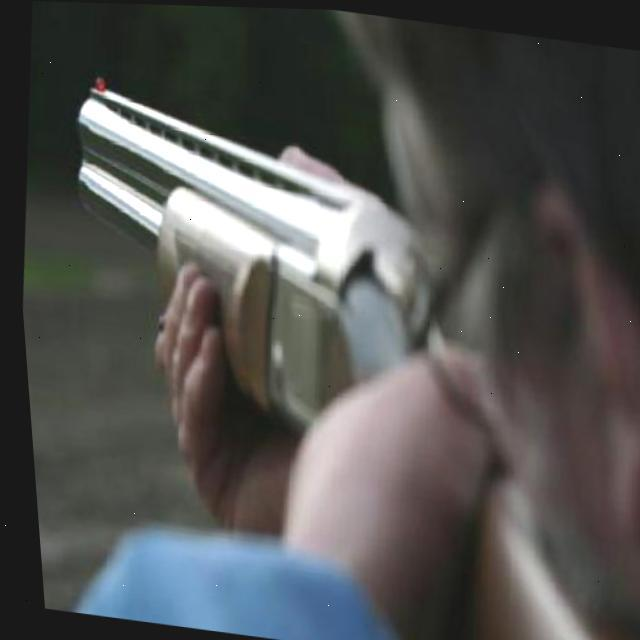gun: (33, 66, 415, 474)
